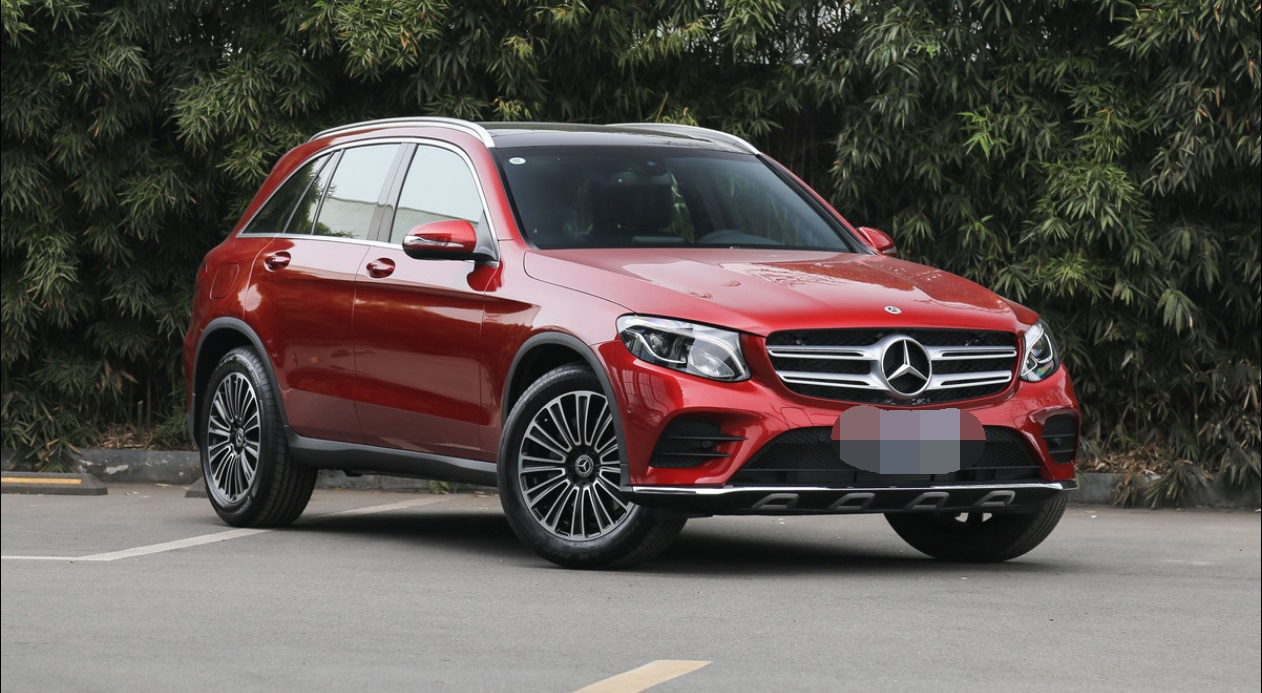SUV: (180, 105, 1083, 575)
